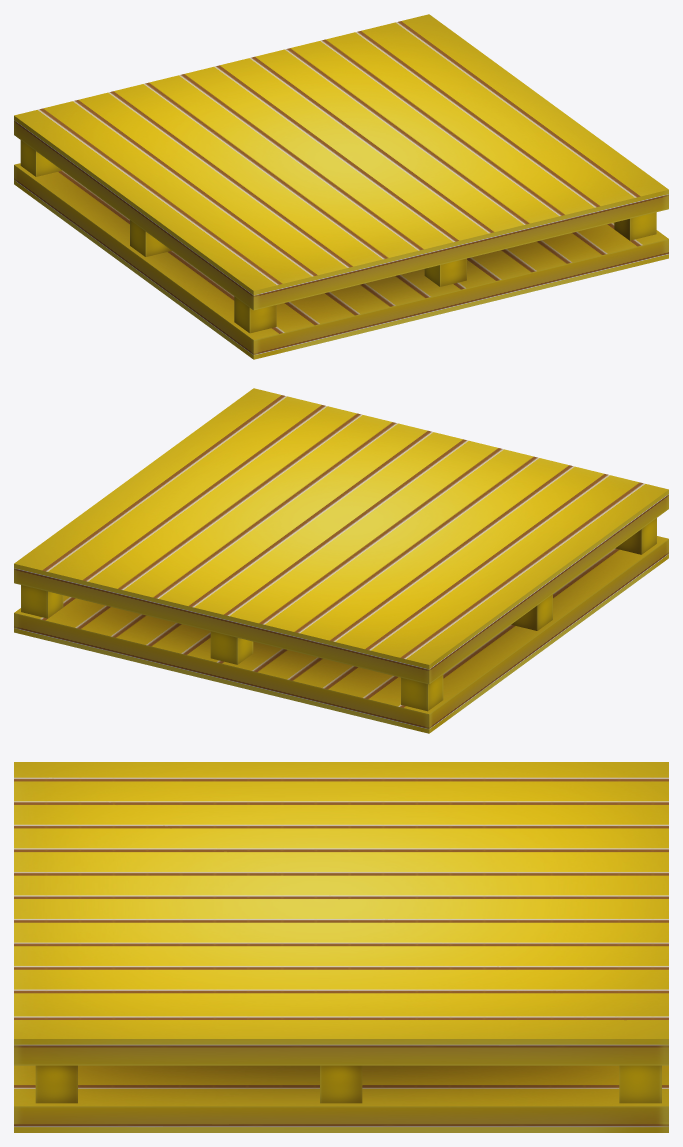
The model's file is pallet.fbx.
3 views of the same model, one above another, from view 1: azimuth 30°, elevation 25°; view 2: azimuth 150°, elevation 25°; view 3: azimuth 270°, elevation 25° (orthographic). The views are drawn at different scales.
Parts seen in each view (by area): view 1: pallet; view 2: pallet; view 3: pallet.
Part boxes in pixels (<box>): pallet: <box>14,14,668,359</box>; pallet: <box>14,388,668,733</box>; pallet: <box>14,762,668,1132</box>.
Size of the model in its own units: 13.41 by 2.12 by 13.41.
Materials: 1 (1 with a texture image).
